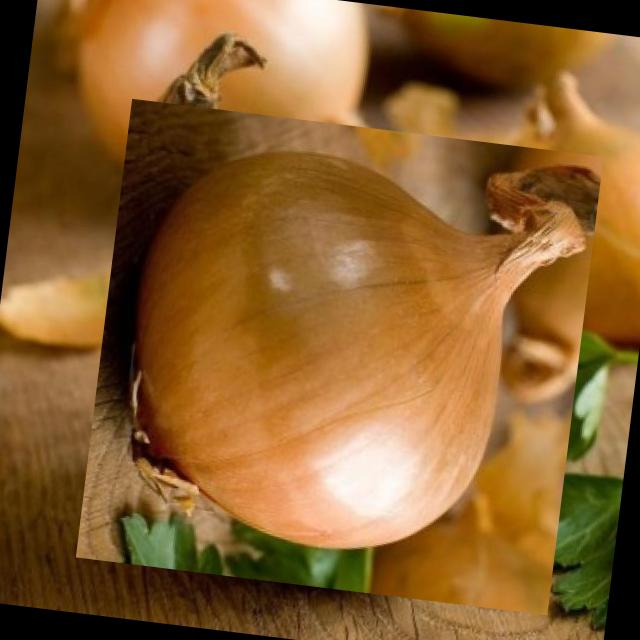Onion: (77, 95, 600, 618)
